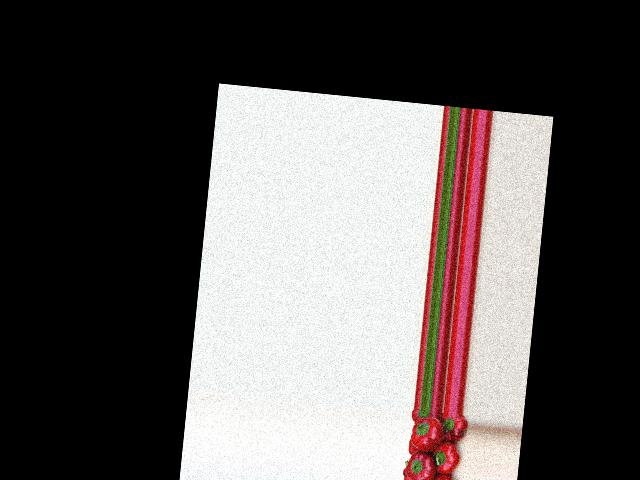bell_pepper: (406, 441, 420, 455)
